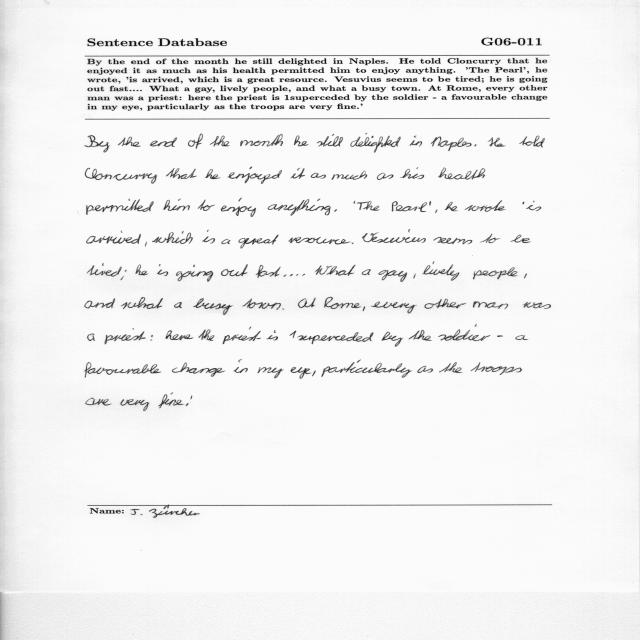word: (321, 360, 412, 378), (85, 362, 162, 378), (85, 168, 157, 184), (290, 331, 374, 344), (86, 199, 154, 215), (268, 199, 331, 216), (350, 133, 401, 153), (227, 167, 282, 184), (438, 324, 491, 341), (362, 229, 426, 243), (172, 362, 225, 377), (87, 230, 141, 244), (423, 262, 460, 281), (105, 328, 146, 345), (193, 298, 233, 315), (470, 362, 522, 375), (221, 198, 256, 217), (223, 327, 261, 344), (176, 265, 213, 282), (431, 136, 472, 151), (438, 168, 486, 180), (371, 302, 417, 314), (473, 267, 518, 279), (152, 231, 193, 244), (238, 235, 279, 248), (240, 134, 283, 146), (464, 200, 506, 212), (121, 297, 163, 309), (87, 263, 122, 276), (315, 265, 356, 276), (85, 135, 110, 153), (324, 297, 361, 309), (289, 237, 351, 244), (242, 299, 281, 310), (425, 299, 467, 309), (158, 393, 184, 409), (392, 201, 427, 212), (120, 399, 150, 411), (166, 168, 197, 179), (379, 270, 407, 282), (256, 265, 281, 278), (163, 199, 190, 211), (221, 264, 248, 276), (332, 171, 367, 180), (382, 332, 403, 347), (317, 134, 343, 146), (519, 136, 545, 148), (85, 299, 115, 309), (400, 167, 424, 179), (258, 368, 284, 379), (473, 301, 508, 309), (166, 330, 194, 340), (434, 237, 473, 244), (150, 137, 177, 147), (408, 330, 432, 341), (439, 362, 463, 373), (290, 367, 311, 379), (188, 133, 203, 149), (118, 137, 141, 147), (357, 201, 380, 211), (210, 136, 230, 147), (86, 398, 112, 406), (298, 297, 316, 308), (523, 302, 551, 309), (199, 329, 215, 341), (198, 200, 215, 211), (202, 230, 215, 244), (234, 360, 248, 373), (488, 137, 506, 147), (480, 234, 500, 243), (294, 136, 309, 147), (511, 235, 531, 243), (291, 168, 305, 179), (205, 169, 220, 179), (527, 201, 542, 211), (135, 265, 148, 276), (410, 136, 422, 147), (157, 264, 168, 276), (266, 330, 278, 341), (445, 202, 458, 211), (377, 173, 393, 180), (417, 366, 433, 373), (311, 173, 326, 179), (516, 335, 529, 340), (121, 270, 127, 280), (362, 269, 371, 275), (221, 239, 231, 244), (88, 334, 95, 341), (174, 302, 182, 308), (284, 274, 298, 277), (312, 371, 316, 376), (413, 274, 416, 279), (435, 210, 438, 214), (524, 274, 527, 278), (151, 335, 153, 341), (497, 335, 503, 337), (429, 201, 431, 206), (145, 242, 147, 247), (363, 306, 365, 311), (334, 209, 337, 212), (186, 403, 189, 406), (354, 201, 356, 204), (523, 202, 525, 205), (302, 274, 305, 276), (191, 396, 193, 399), (475, 145, 477, 147), (282, 308, 284, 310), (352, 243, 354, 244)
